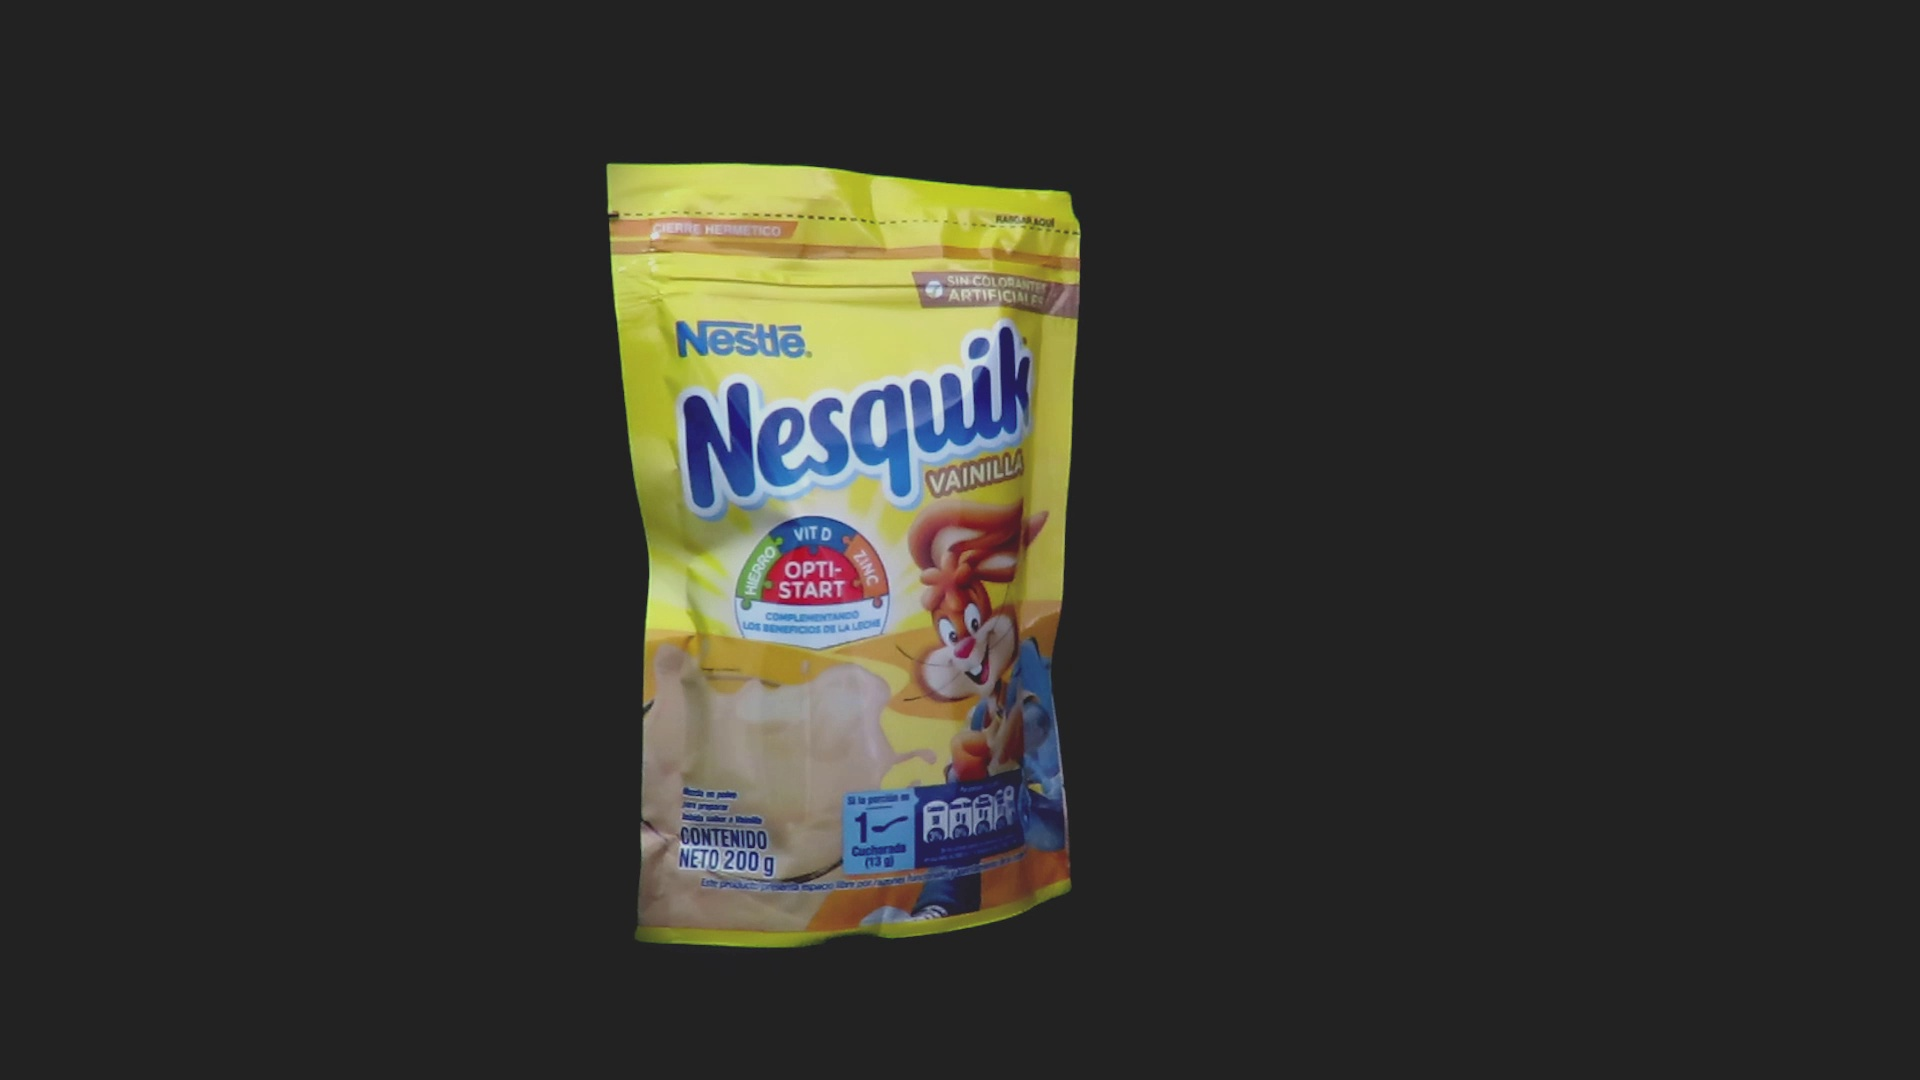COL0170306DYP20000: (601, 158, 1087, 953)
